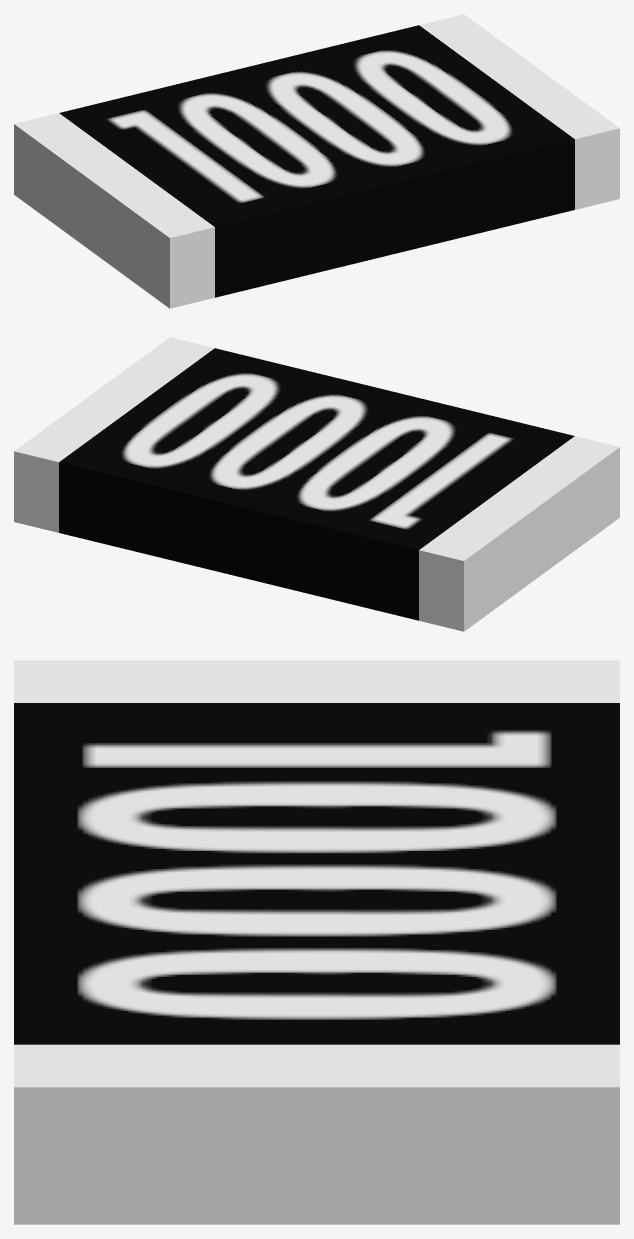
The model's file is SMD0805-Resistor.gltf.
3 renders of one model, top to bottom at view 1: azimuth 30°, elevation 25°; view 2: azimuth 150°, elevation 25°; view 3: azimuth 270°, elevation 25°, orthographic. The views are drawn at different scales.
Parts seen in each view (by area): view 1: Resistor, Connectors; view 2: Resistor, Connectors; view 3: Resistor, Connectors.
Part boxes in pixels (left/top/right/bottom): Resistor: left=59, top=25, right=574, bottom=297; Connectors: left=14, top=14, right=619, bottom=308; Resistor: left=59, top=348, right=574, bottom=620; Connectors: left=14, top=337, right=619, bottom=631; Resistor: left=14, top=703, right=619, bottom=1044; Connectors: left=14, top=660, right=619, bottom=1224.
Size of the model in its own units: 0.002 by 0.0003 by 0.0012.
Materials: 2 (1 with a texture image).
